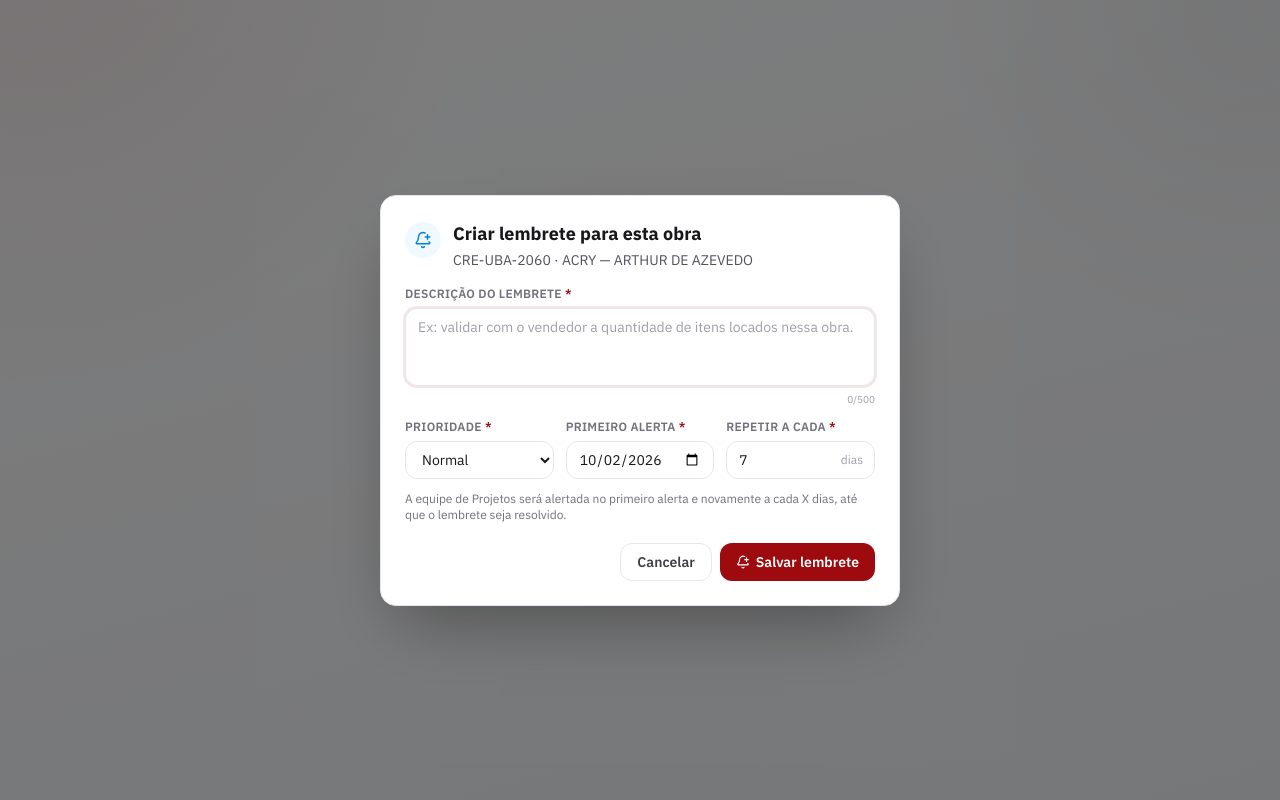
Test: ReminderFormDialog — criar lembrete para esta obra › valida recorrência positiva
The image size is (1280, 800).
Step 1. Type "Agendar reunião técnica" into the text box labelled "Descrição do lembrete *" → (640,346), box [405,308,875,386]
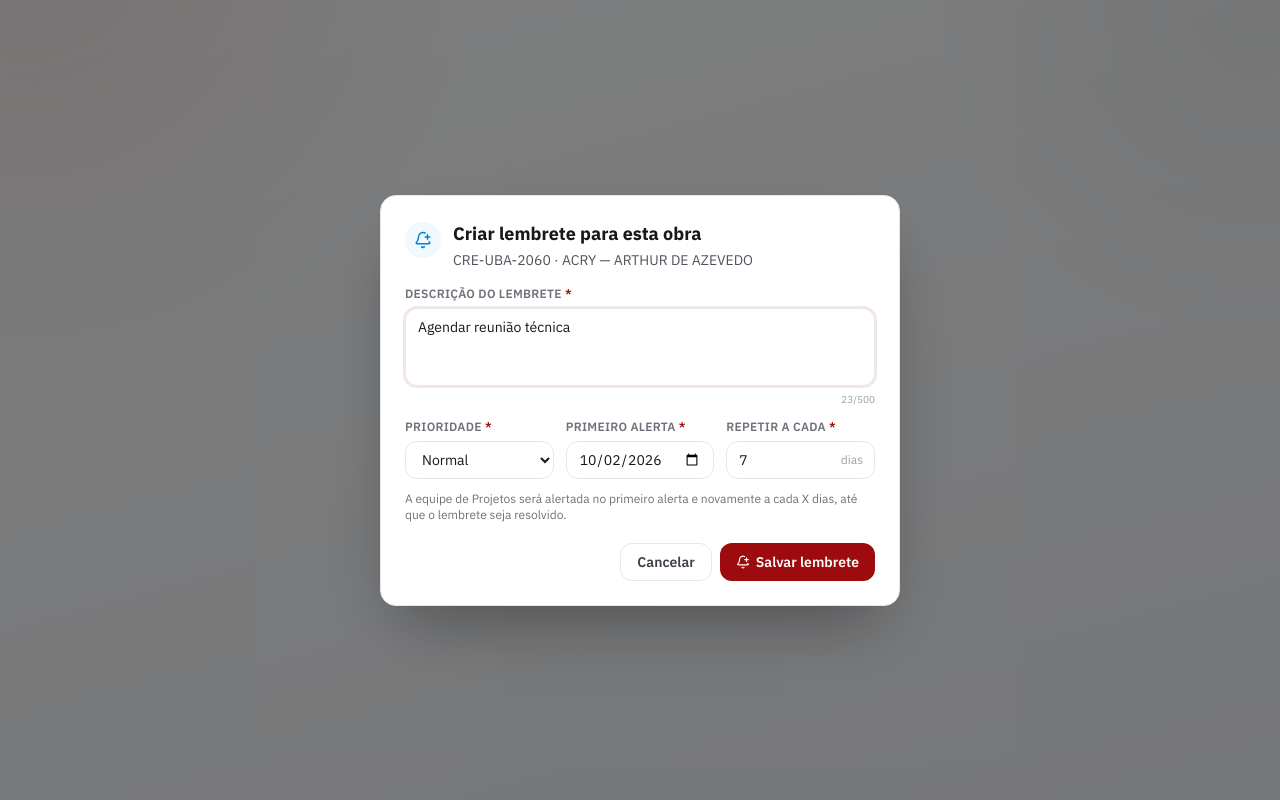
Step 2. Replace the text in the number field labelled "Repetir a cada *" with "0" → (801,460), box [726,440,875,478]
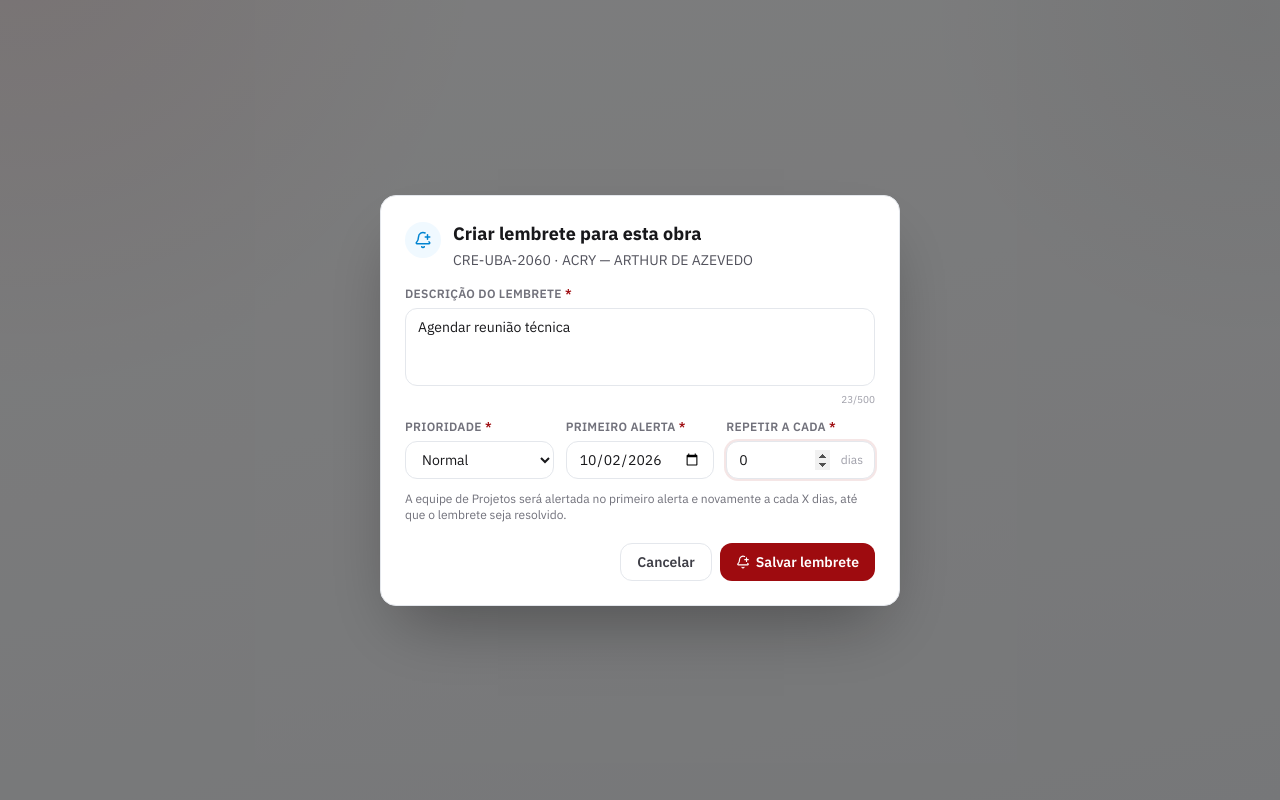
Step 3. Click the button "Salvar lembrete" → (797,562), box [720,542,875,580]
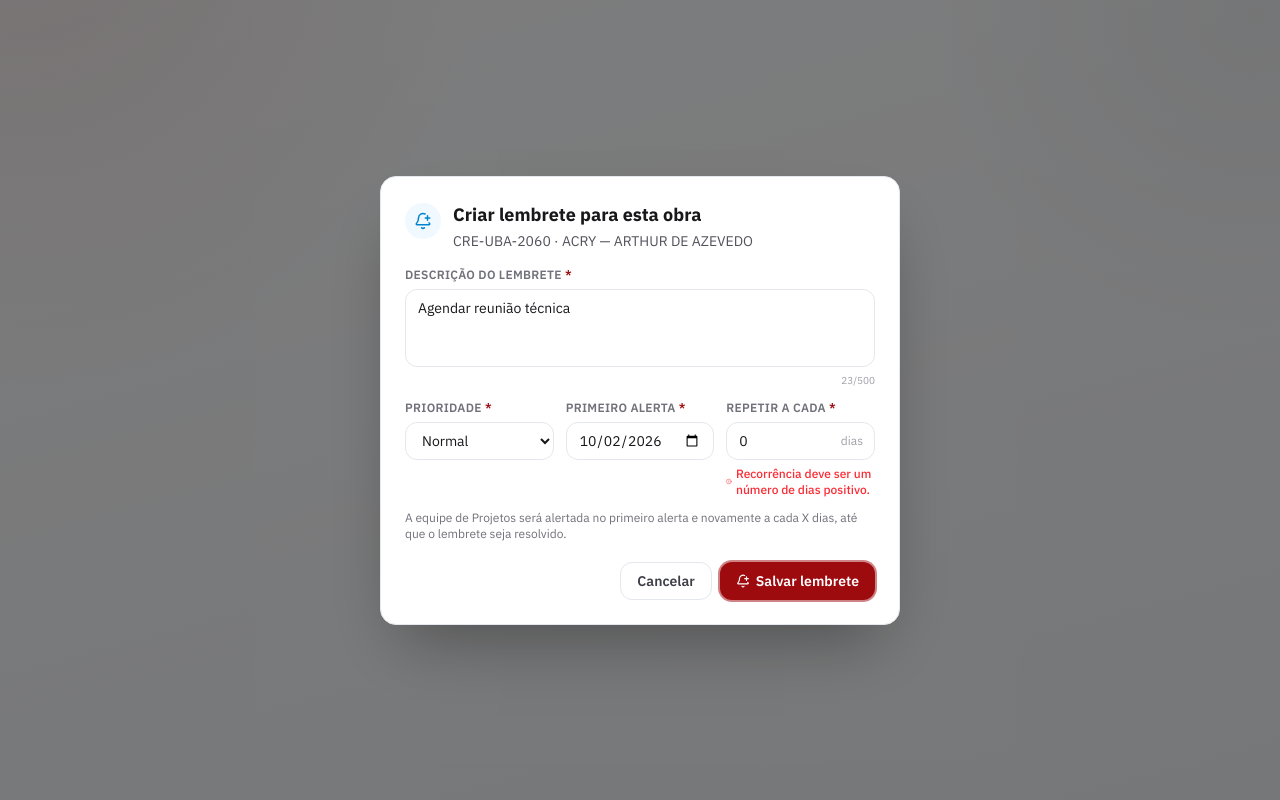
Expected: the text "Recorrência deve ser um número de dias positivo." is shown, [726,466,875,498]
